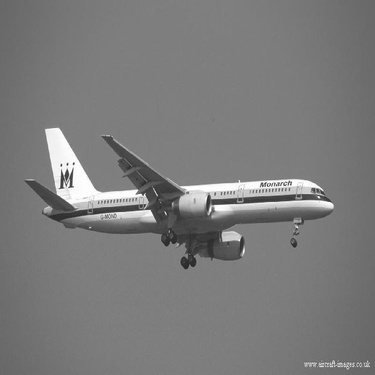airplane: (23, 116, 337, 272)
